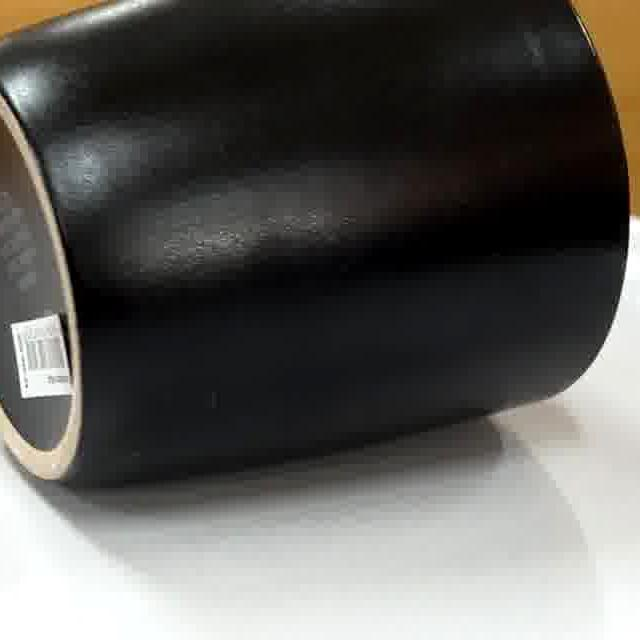cup: (0, 0, 630, 493)
